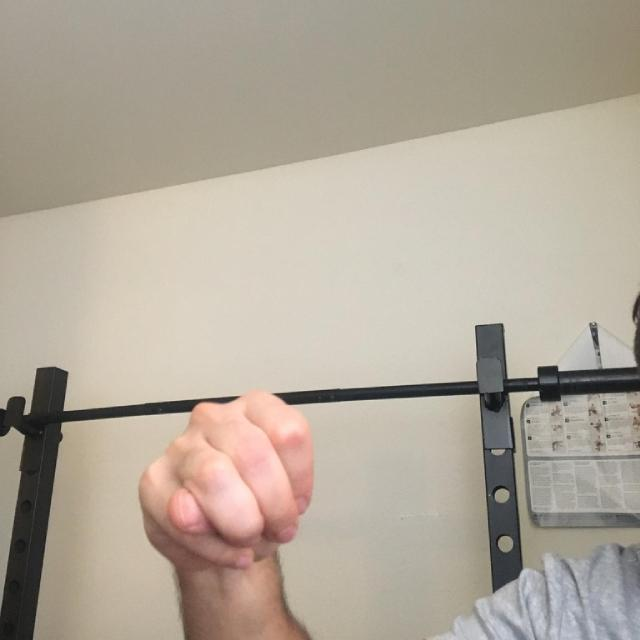M: (90, 352, 345, 635)
